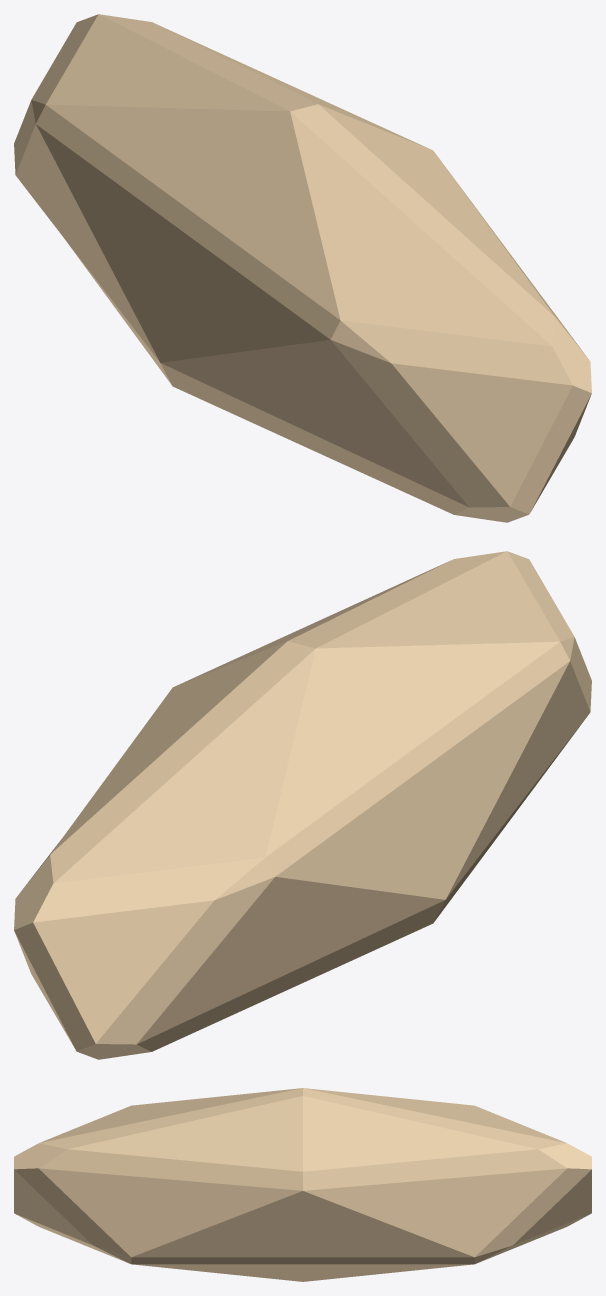
File: SM_Bread.fbx
The picture shows the model from 3 angles, top to bottom: view 1: azimuth 30°, elevation 25°; view 2: azimuth 150°, elevation 25°; view 3: azimuth 270°, elevation 25°; orthographic projection. The views are drawn at different scales.
Visible parts, largest first — view 1: Bread; view 2: Bread; view 3: Bread.
Boxes of the visible parts, left/top/right/bottom form: Bread: left=14, top=14, right=591, bottom=522; Bread: left=14, top=551, right=591, bottom=1059; Bread: left=14, top=1088, right=591, bottom=1281.
Size of the model in its own units: 9.63 by 10.36 by 29.01.
